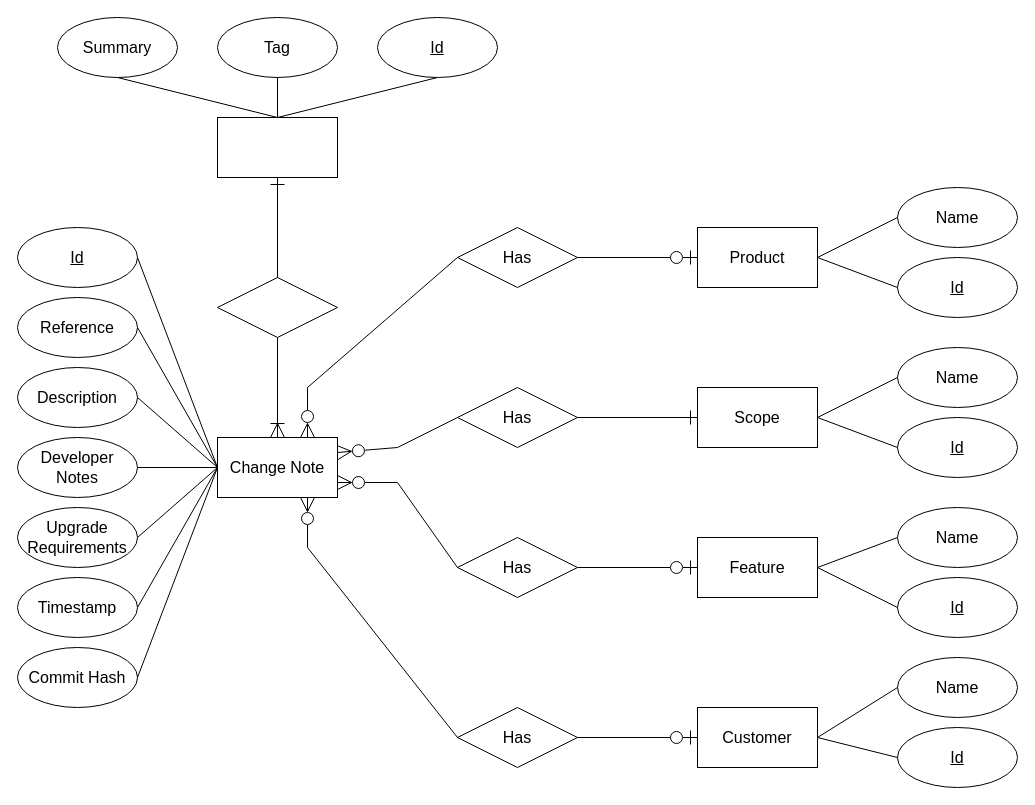
Image size: 1035x805. Some labels were removed from this diagram. The centre of each missing label's shape, as x and y in pixels:
"Contains" belongs at point 277,307.
"Release Note" belongs at point 277,147.
